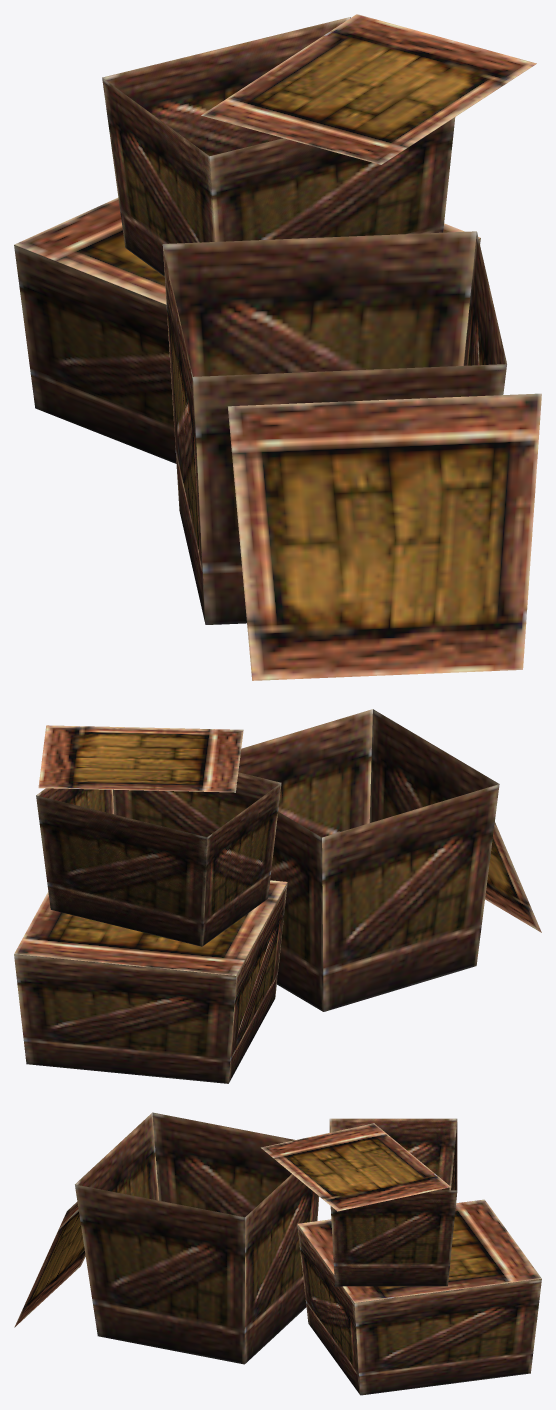
File: crates.obj
3 views of the same model, one above another, from view 1: azimuth 30°, elevation 25°; view 2: azimuth 150°, elevation 25°; view 3: azimuth 270°, elevation 25° (orthographic). The views are drawn at different scales.
Parts seen in each view (by area): view 1: EmptyCrates0; view 2: EmptyCrates0; view 3: EmptyCrates0.
Boxes of the visible parts, x1,y1,x2,y2 form: EmptyCrates0: [14, 14, 541, 680]; EmptyCrates0: [14, 709, 541, 1083]; EmptyCrates0: [14, 1112, 541, 1395].
Size of the model in its own units: 3.18 by 2.05 by 4.89.
1 material, 1 textured.
